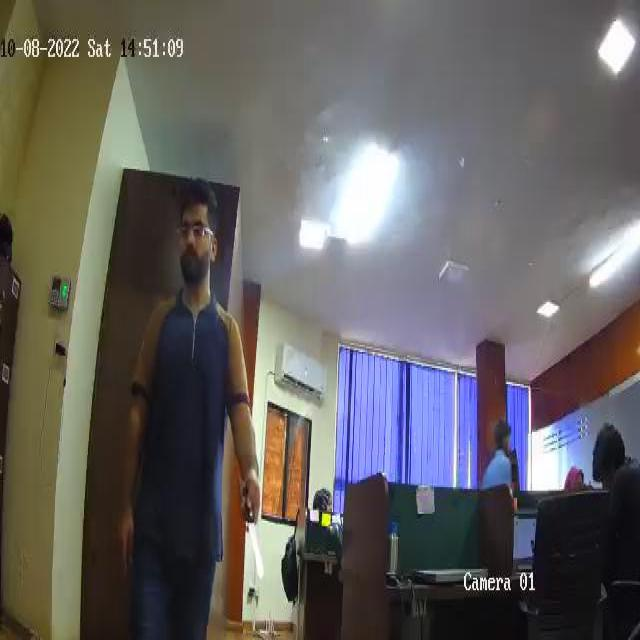Knife: (236, 485, 263, 576)
